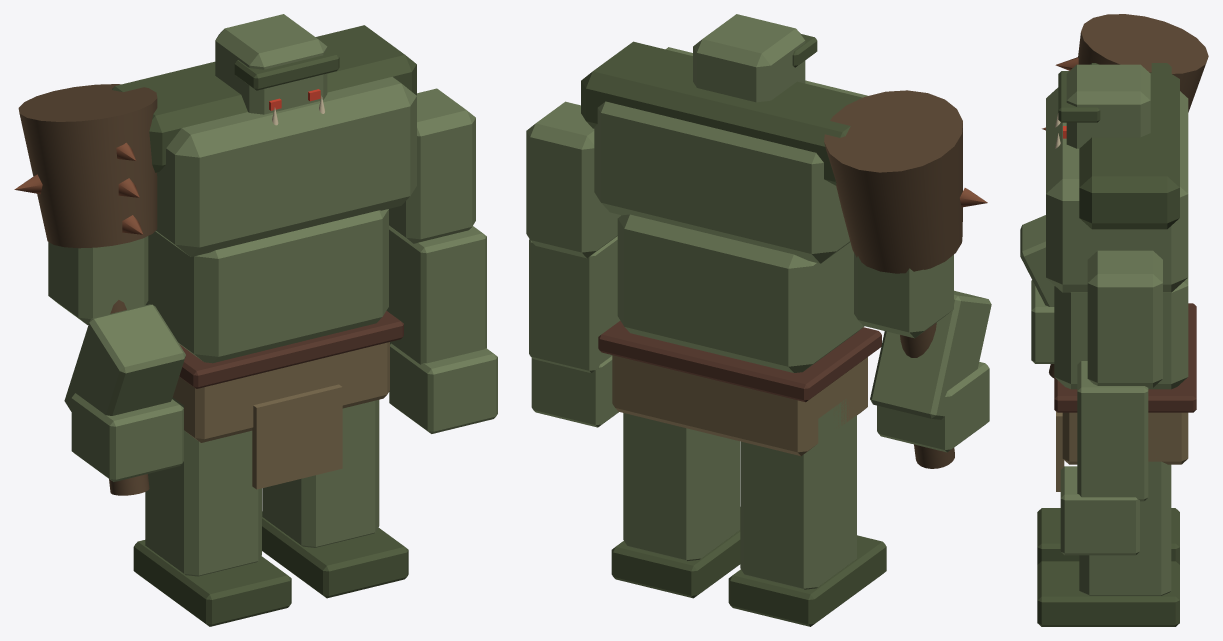
The picture shows the model from 3 angles, left to right: view 1: azimuth 30°, elevation 25°; view 2: azimuth 150°, elevation 25°; view 3: azimuth 270°, elevation 25°; orthographic projection. The views are drawn at different scales.
Visible parts, largest first — view 1: survival_behemoth; view 2: survival_behemoth; view 3: survival_behemoth.
Part boxes in pixels (x1,y1,x2,y2): survival_behemoth: (14, 14, 497, 626); survival_behemoth: (526, 14, 991, 626); survival_behemoth: (1020, 14, 1208, 626).
Bounding box in the file's own units: 5.78 × 6.65 × 2.25.
